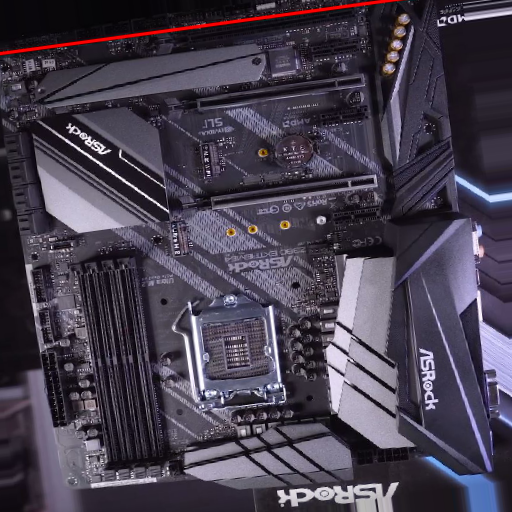CPU: (189, 291, 286, 397)
GPU: (179, 173, 379, 221), (164, 75, 368, 122)
MOTHERBOARD: (8, 6, 496, 490)
RAM: (68, 255, 171, 482)
SSD: (197, 139, 221, 181), (168, 220, 190, 256)
